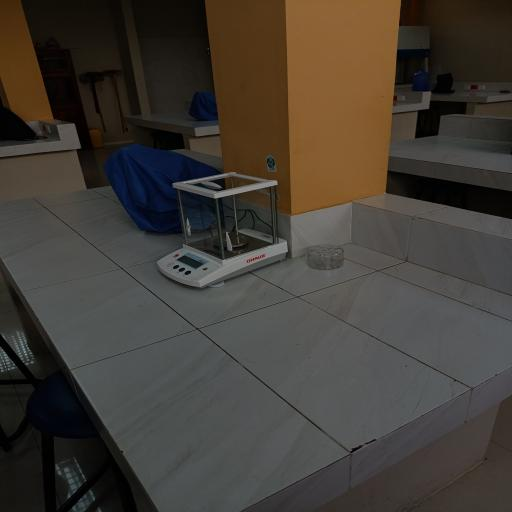Balanza_Analitica_Ohaus: (151, 166, 299, 294)
